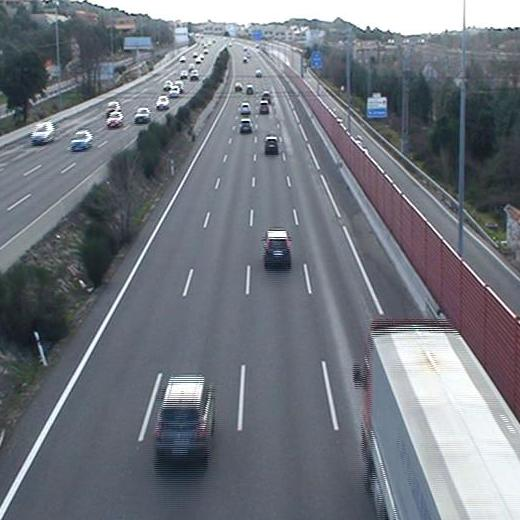car: (151, 370, 220, 473), (258, 226, 299, 276), (263, 132, 282, 157), (238, 117, 254, 135), (258, 99, 271, 116), (239, 101, 253, 116)
truck: (350, 313, 520, 520)
